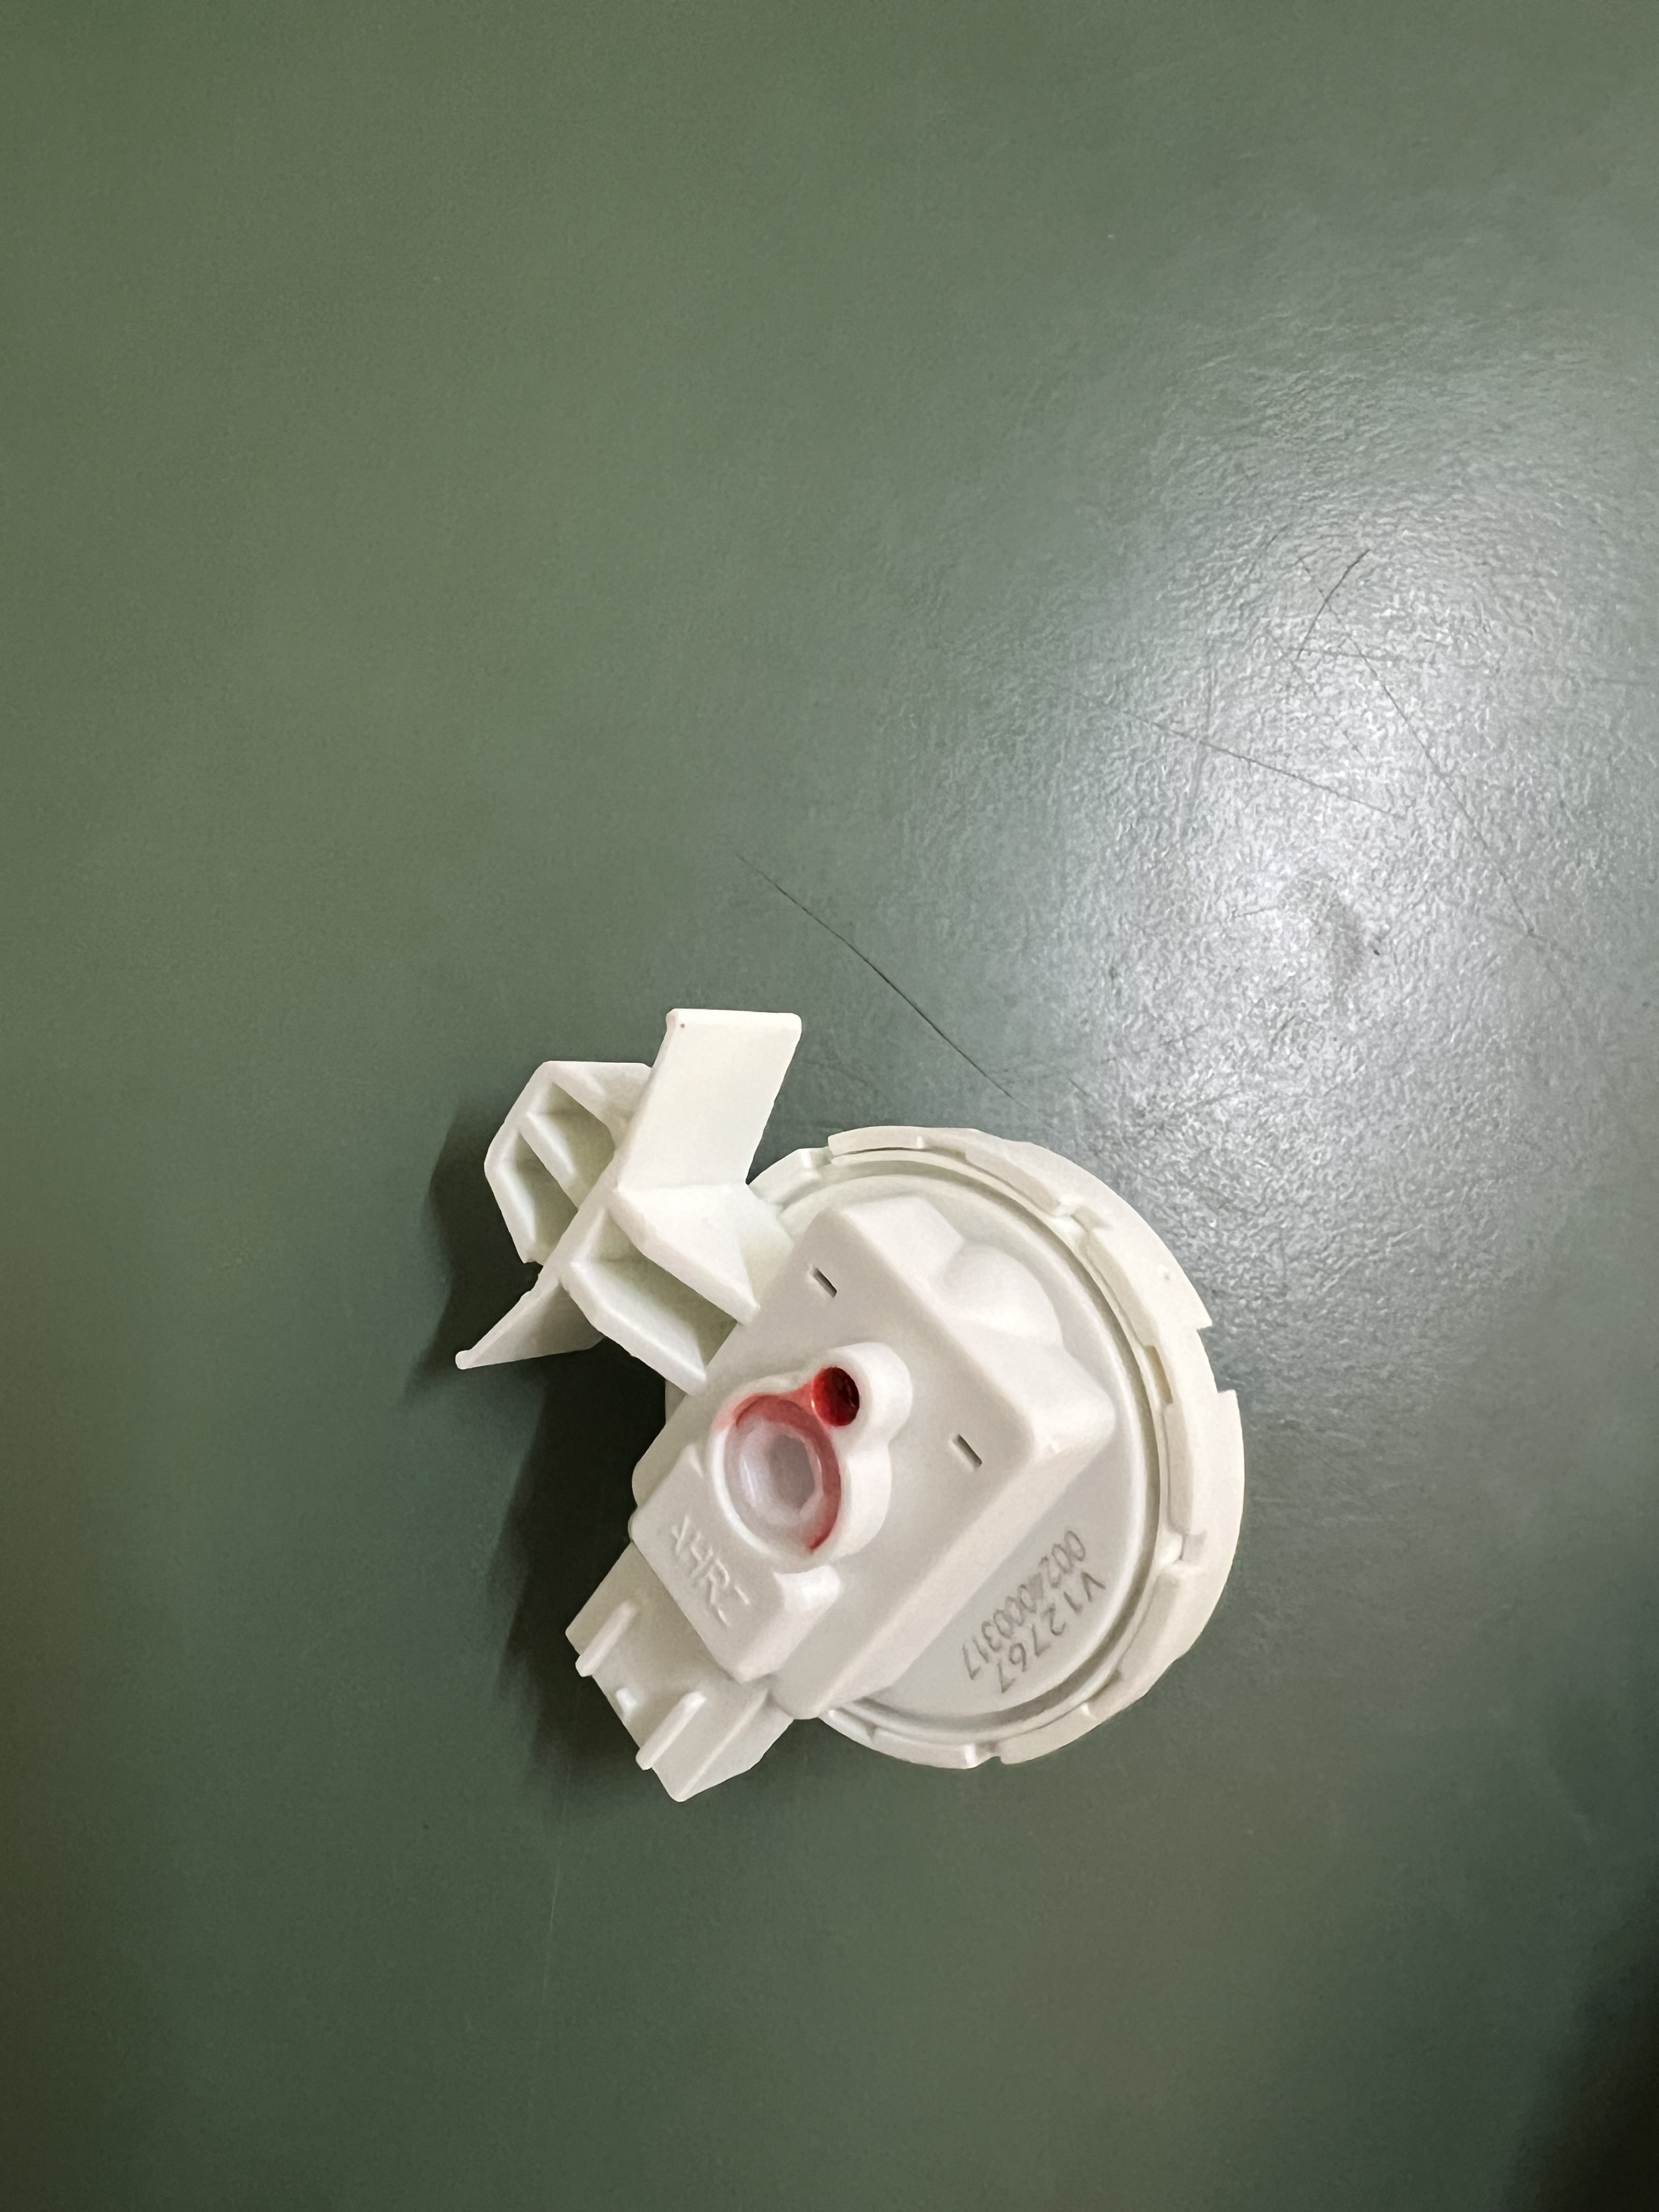pressure_switch_2: (420, 993, 1297, 1806)
